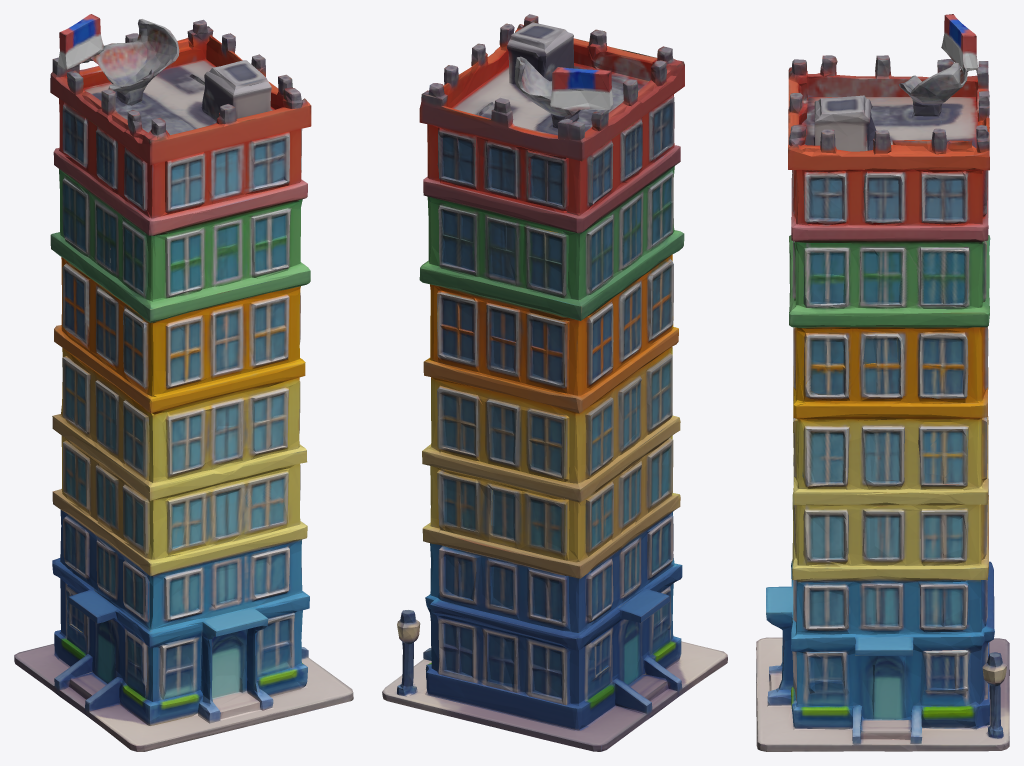
File: tall-office.glb
3 views of the same model, side by side, from view 1: azimuth 30°, elevation 25°; view 2: azimuth 150°, elevation 25°; view 3: azimuth 270°, elevation 25° (orthographic).
Visible parts, largest first — view 1: world; view 2: world; view 3: world.
Part boxes in pixels (bbox=[...]): world: bbox=[14, 14, 353, 751]; world: bbox=[382, 14, 727, 751]; world: bbox=[756, 14, 1009, 751].
Size of the model in its own units: 0.3616 by 0.9995 by 0.3585.
Materials: 1 (1 with a texture image).
